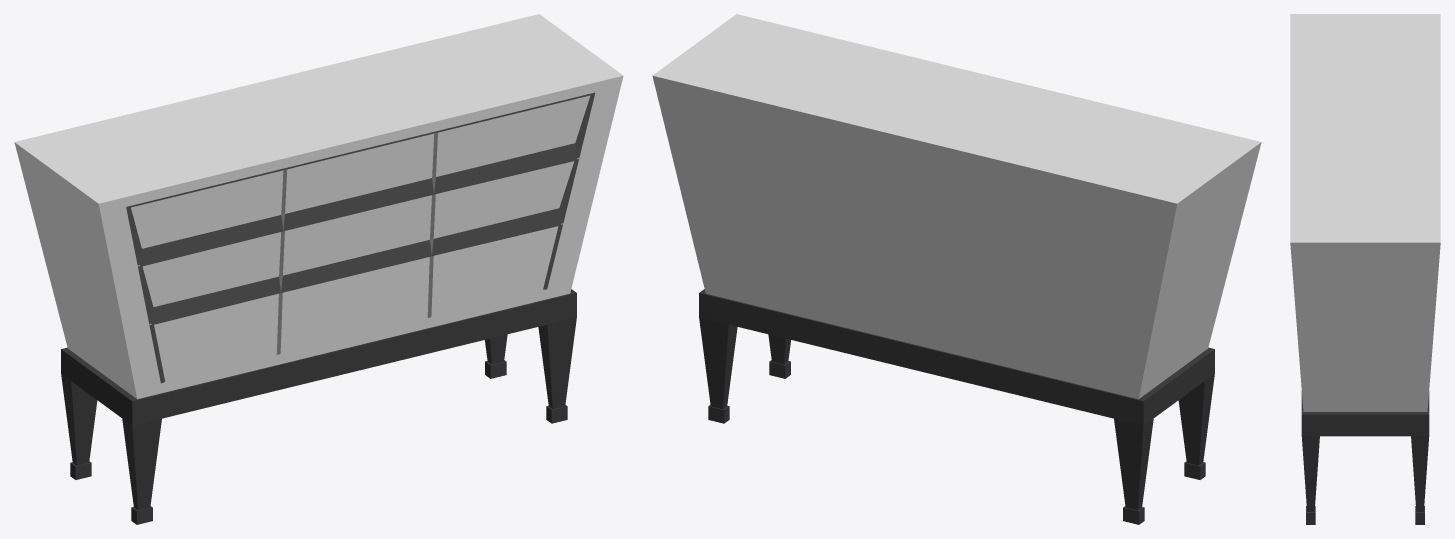
File: Lv3 Dresser.fbx
3 views of the same model, side by side, from view 1: azimuth 30°, elevation 25°; view 2: azimuth 150°, elevation 25°; view 3: azimuth 270°, elevation 25° (orthographic). The views are drawn at different scales.
Parts seen in each view (by area): view 1: Dresser.001; view 2: Dresser.001; view 3: Dresser.001.
Boxes of the visible parts, x1,y1,x2,y2 form: Dresser.001: (14, 14, 623, 524); Dresser.001: (652, 14, 1261, 524); Dresser.001: (1290, 14, 1440, 524).
Size of the model in its own units: 163 by 101 by 45.33.
